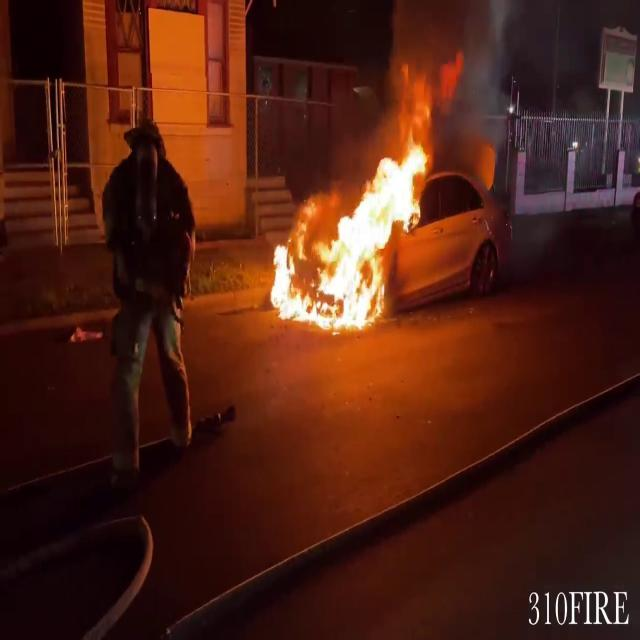Fire: (266, 105, 448, 334)
Smoke: (366, 0, 518, 148)
